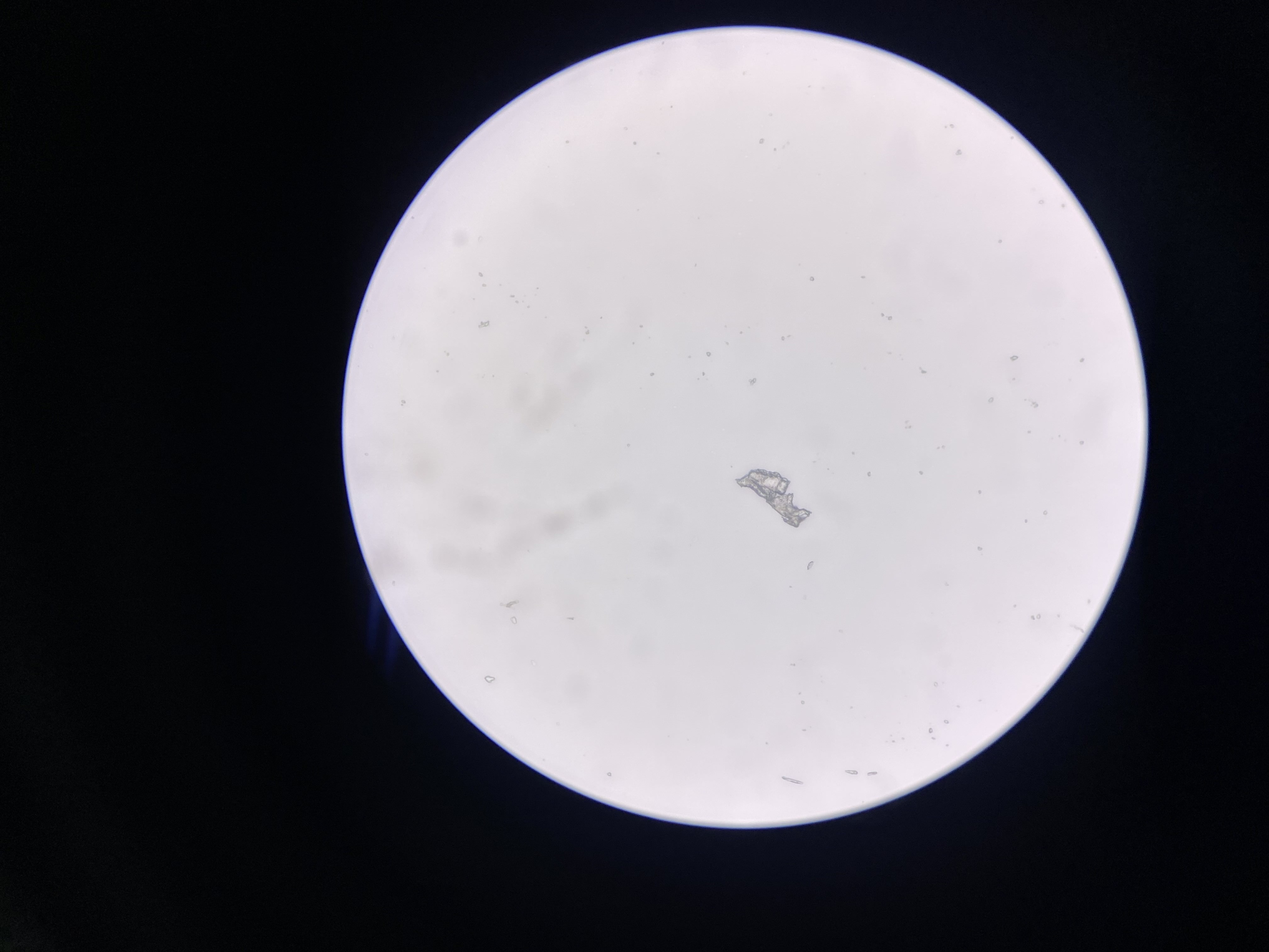not_microplastic: (734, 466, 820, 530)
